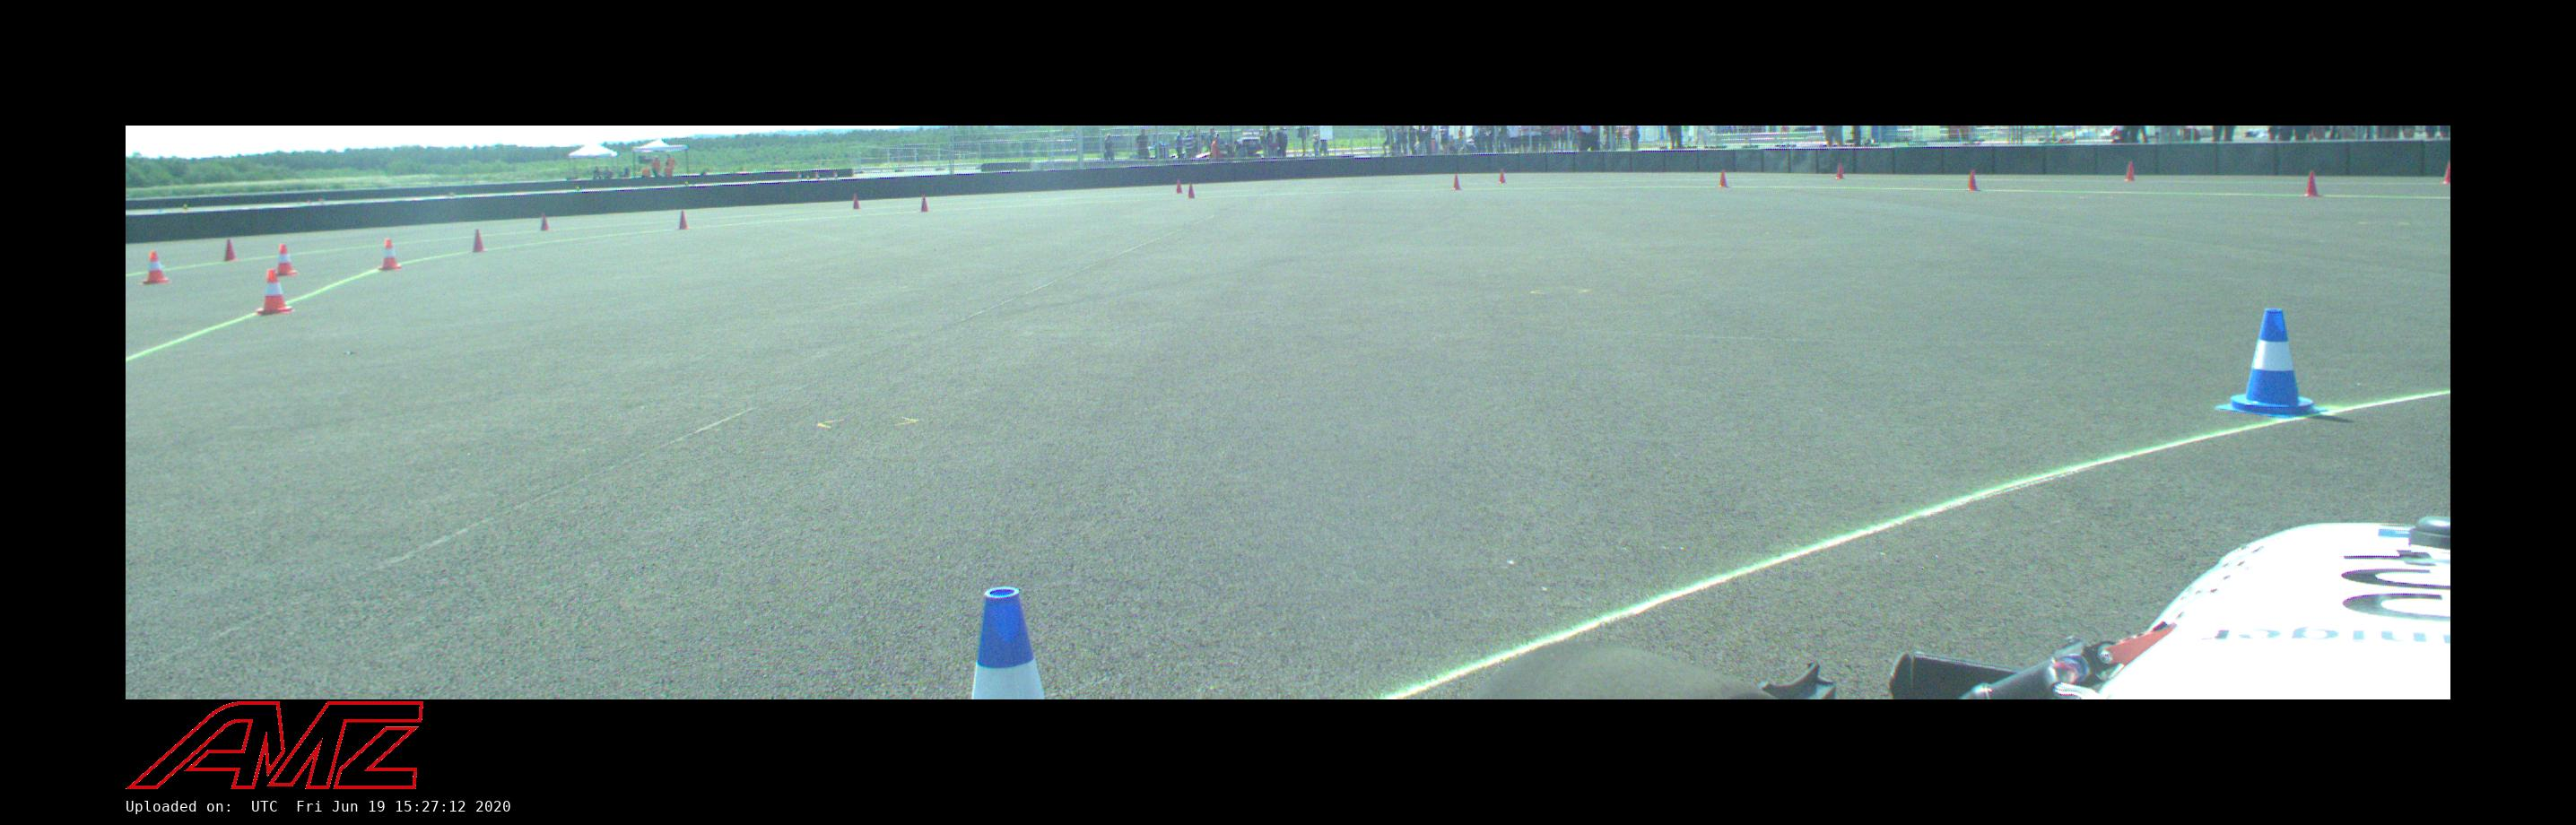blue_cone: (2215, 308, 2328, 418), (972, 586, 1045, 699)
orange_cone: (257, 269, 293, 315), (140, 251, 172, 284), (270, 244, 299, 276), (378, 239, 402, 270)
